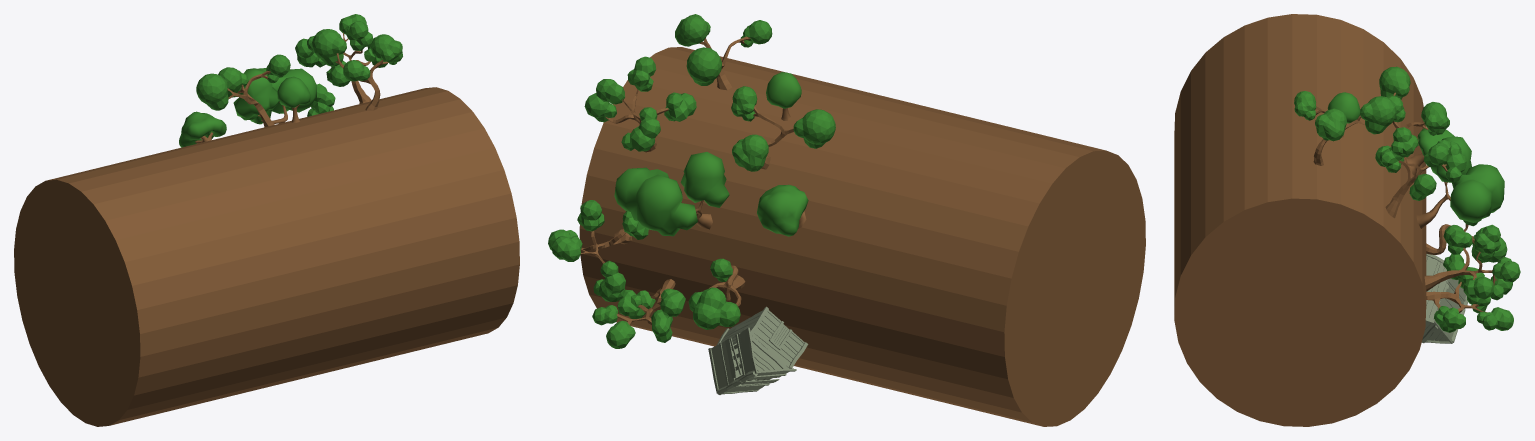
3 views of the same model, side by side, from view 1: azimuth 30°, elevation 25°; view 2: azimuth 150°, elevation 25°; view 3: azimuth 270°, elevation 25° (orthographic). The views are drawn at different scales.
Parts seen in each view (by area): view 1: Cylinder; view 2: Cylinder; view 3: Cylinder.
Part boxes in pixels (x1,y1,x2,y2): Cylinder: (14,14,519,426); Cylinder: (548,14,1145,426); Cylinder: (1174,14,1520,426).
Size of the model in its own units: 17.66 by 12.94 by 14.01.
Materials: 3 (1 with a texture image).
